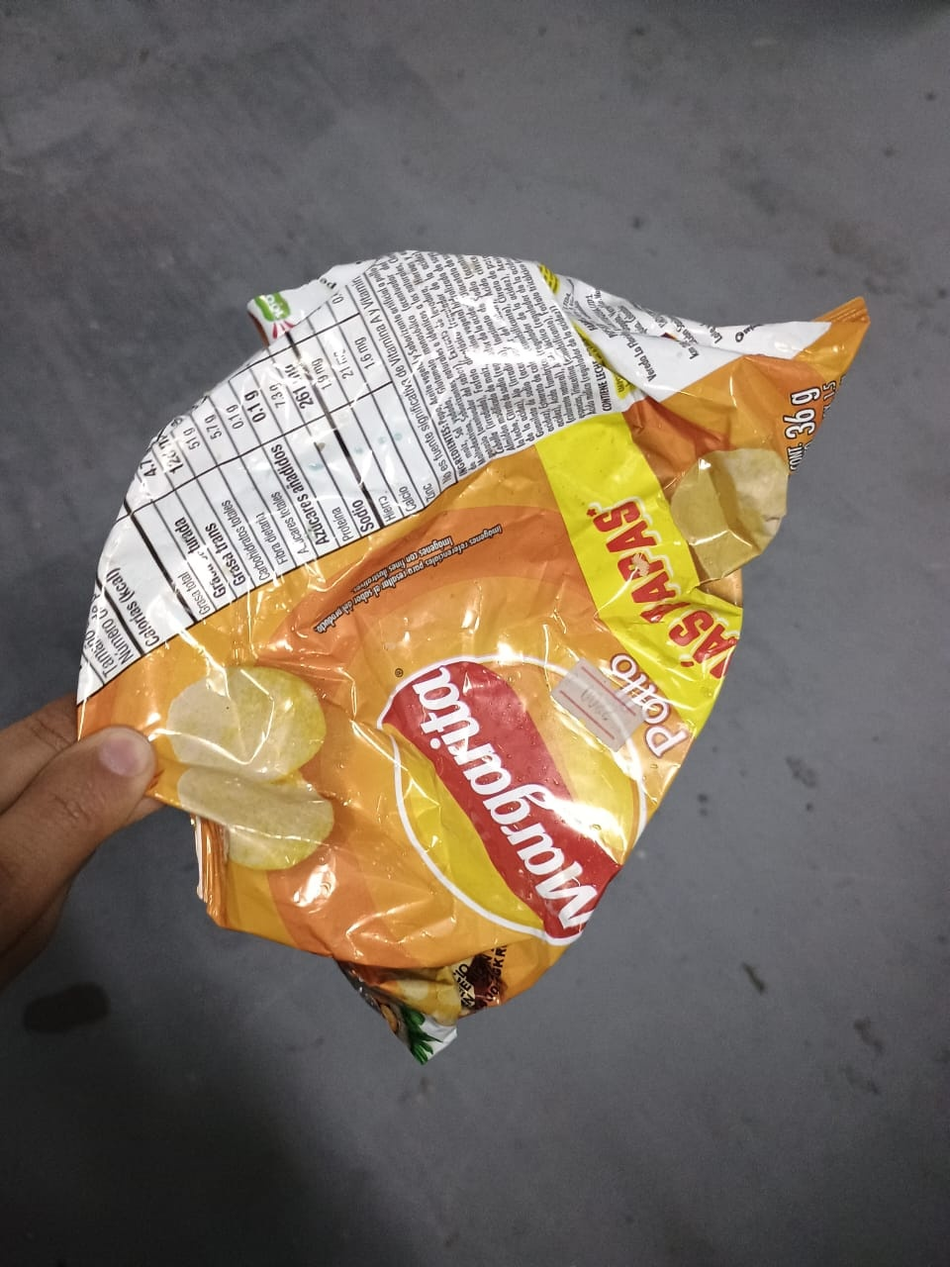Ordinario: (78, 251, 873, 1066)
